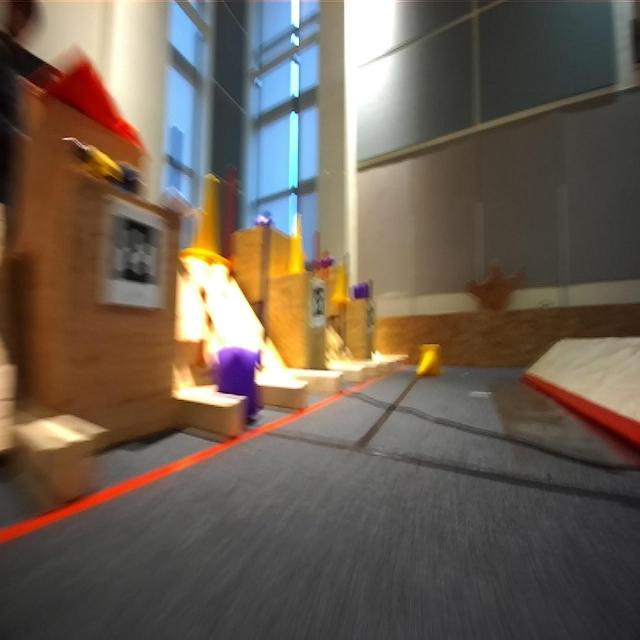frc_cone: (188, 180, 224, 262), (416, 342, 444, 379), (331, 259, 348, 303), (289, 229, 305, 275), (291, 206, 305, 254)
frc_cube: (217, 346, 257, 394), (354, 279, 374, 301), (320, 256, 336, 268)
